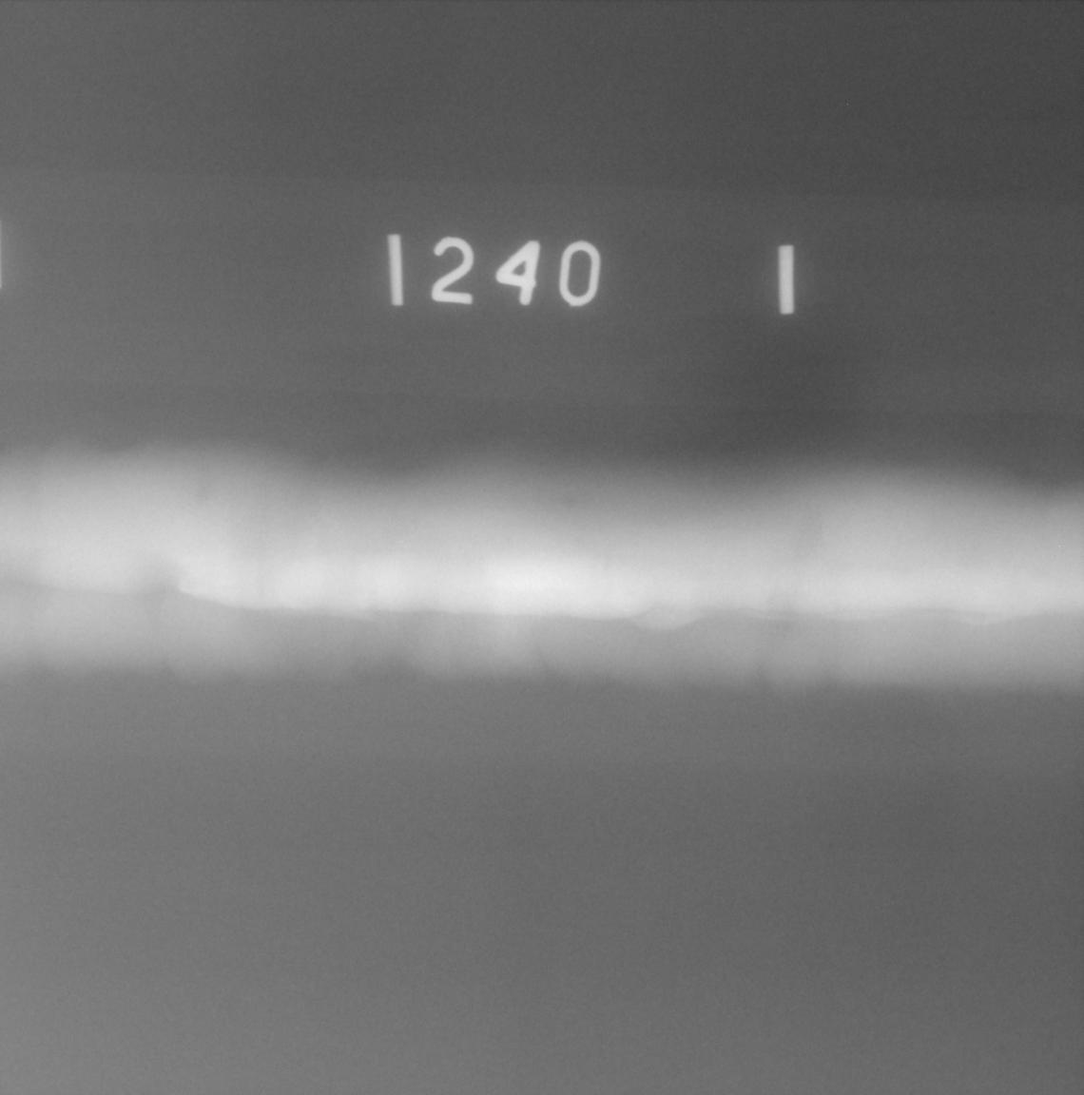Pore/Porosity: (565, 495, 576, 507)
